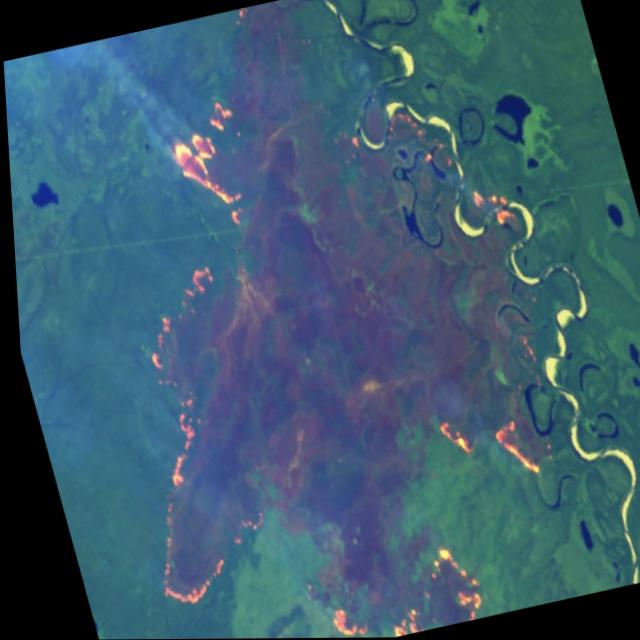fire: (67, 258, 291, 613), (316, 76, 535, 286), (410, 317, 569, 500), (307, 529, 504, 638), (152, 96, 263, 239)
